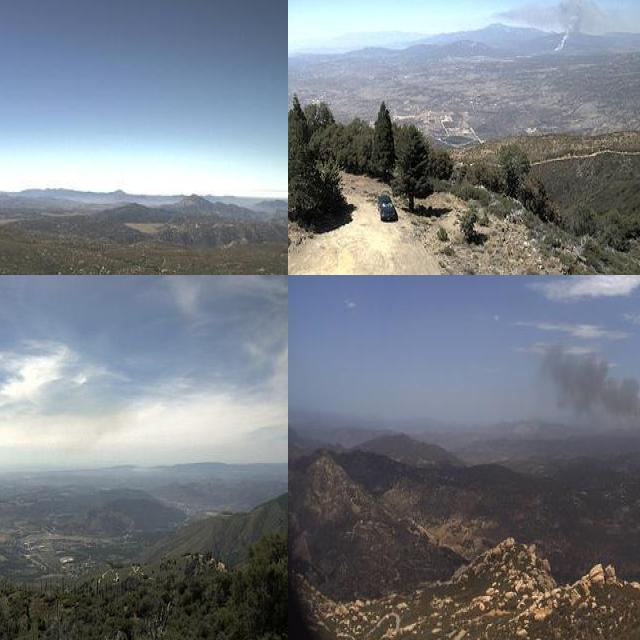smoke: (530, 337, 640, 451), (491, 0, 616, 60)
